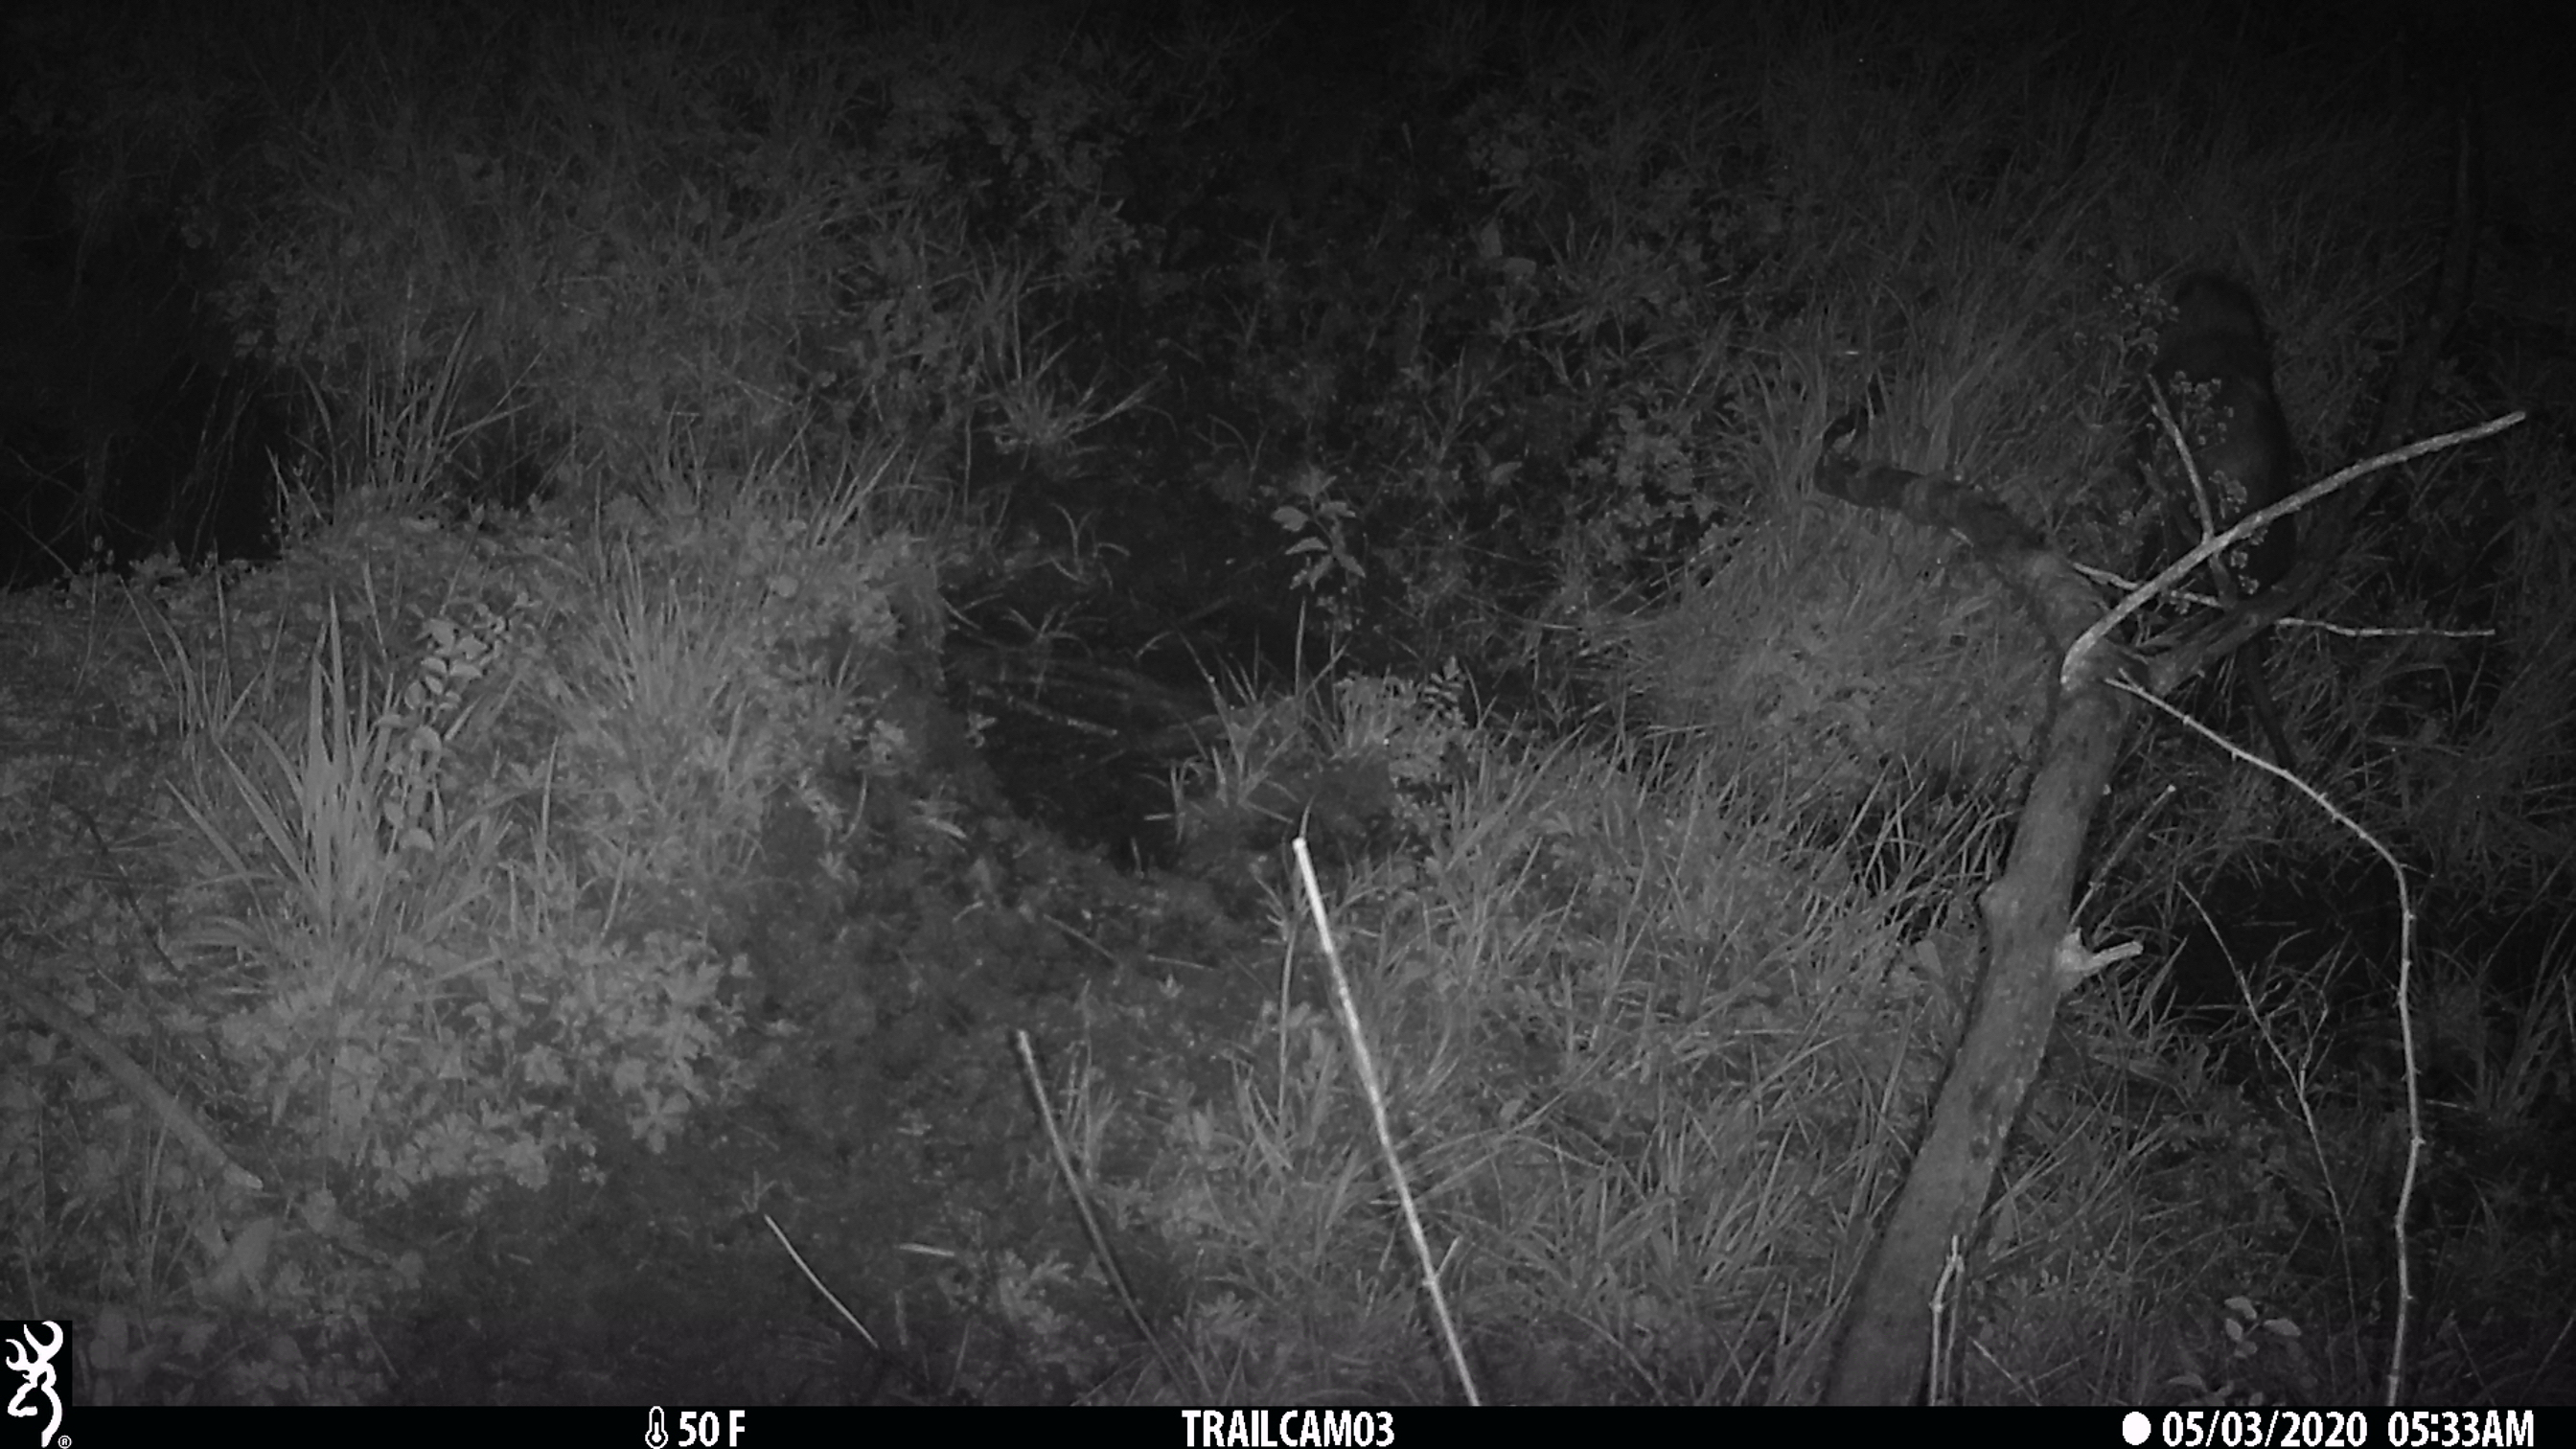Possum: (2157, 262, 2296, 809)
